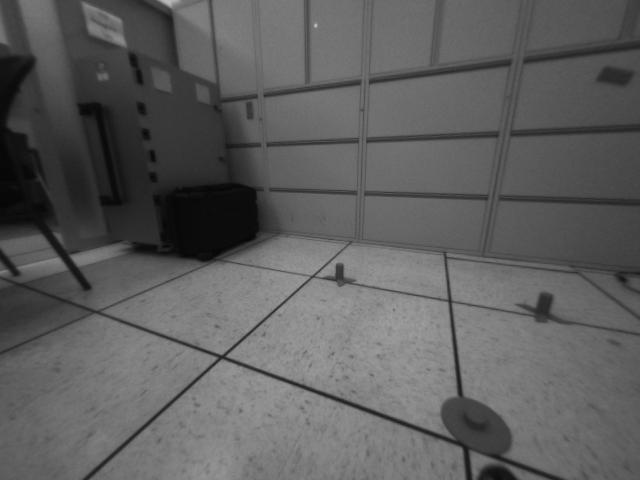X: (515, 291, 575, 326), (321, 262, 357, 286)
